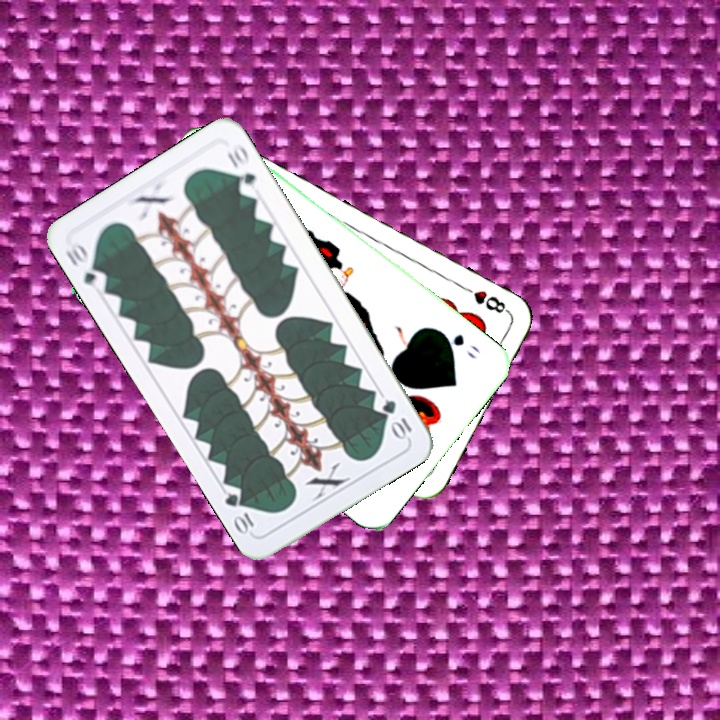G10: (60, 237, 110, 294), (378, 395, 415, 442)
GO: (435, 326, 484, 362)
H8: (457, 281, 512, 316)
